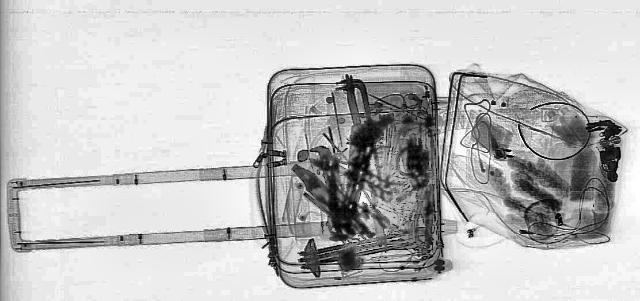Pliers: (279, 160, 339, 202)
